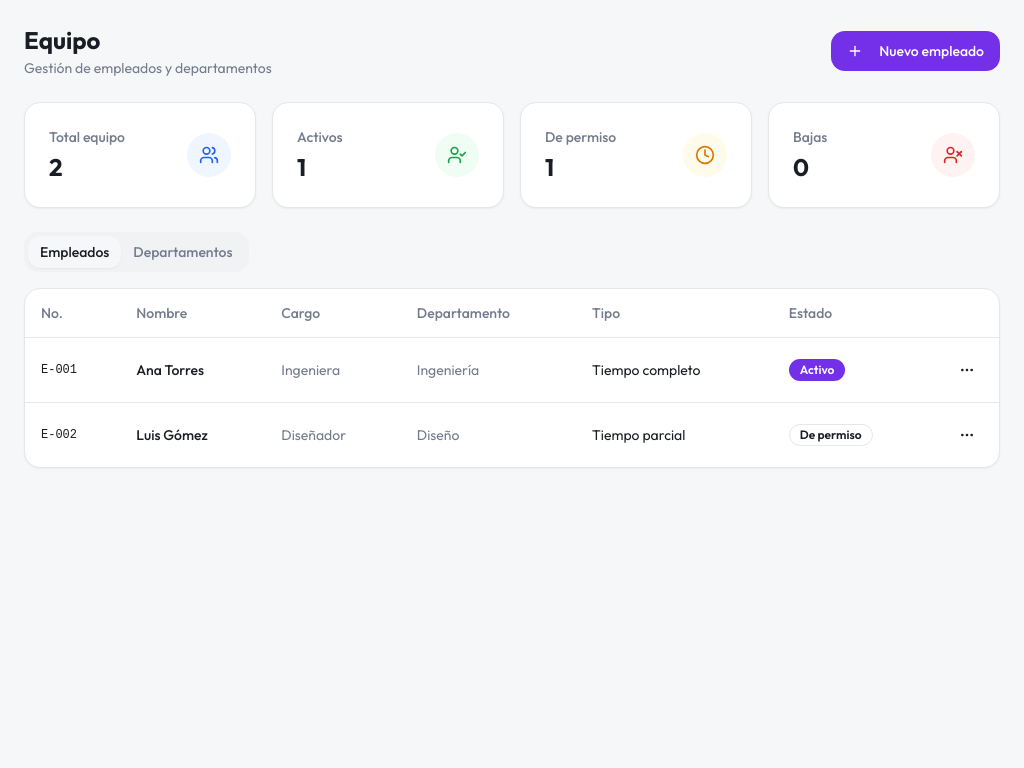
Test: HR, in Spanish › offers to reinstate an employee on leave
The image size is (1024, 768).
Click the text "Ana Torres" at [193, 370], box [120, 337, 265, 402]
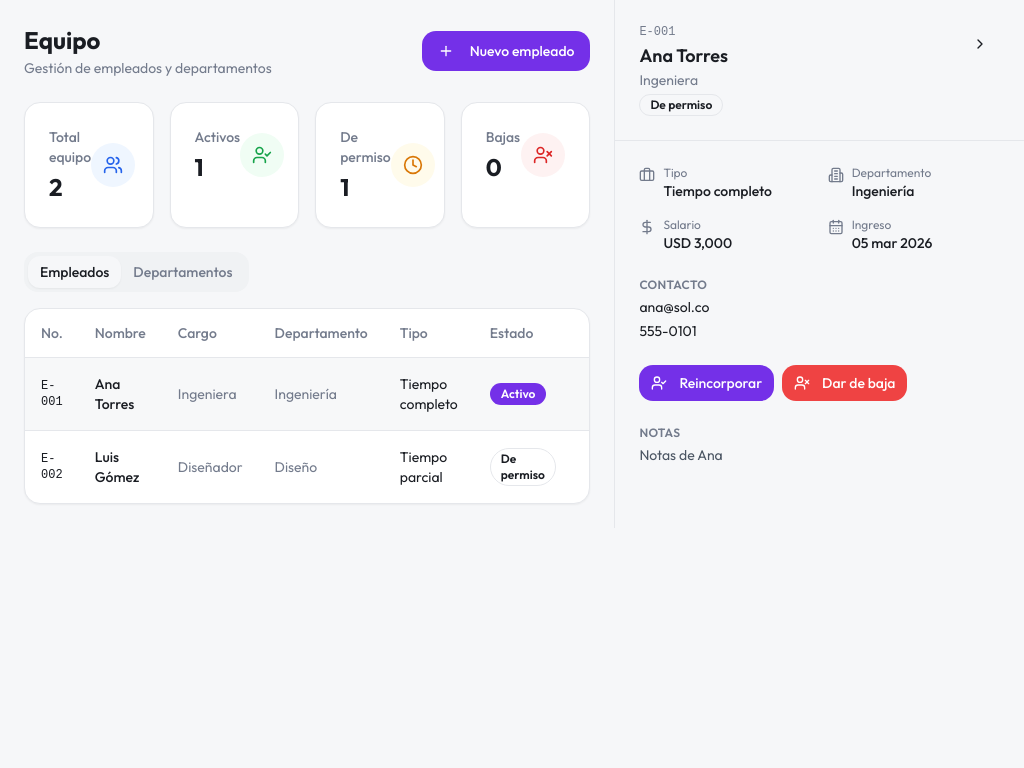
Now the button "Reincorporar" is shown, box [639, 365, 774, 401]
